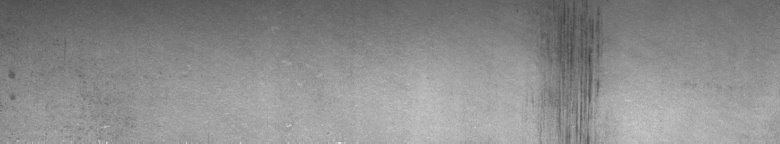ka: (556, 4, 604, 136)
